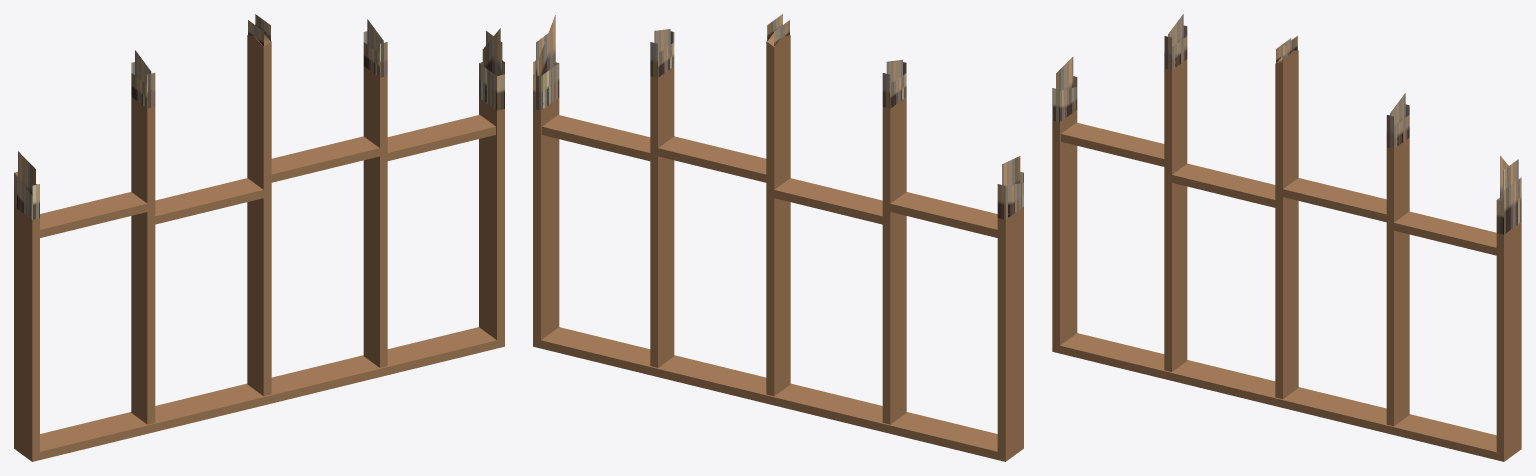
The model's file is DBK_WoodFrame_Tile_B.fbx.
The picture shows the model from 3 angles, left to right: view 1: azimuth 30°, elevation 25°; view 2: azimuth 150°, elevation 25°; view 3: azimuth 330°, elevation 25°; orthographic projection. The views are drawn at different scales.
Visible parts, largest first — view 1: DBK_WoodFrame_Tile_B; view 2: DBK_WoodFrame_Tile_B; view 3: DBK_WoodFrame_Tile_B.
Part boxes in pixels (bbox=[...]): DBK_WoodFrame_Tile_B: bbox=[14, 14, 504, 461]; DBK_WoodFrame_Tile_B: bbox=[533, 14, 1023, 461]; DBK_WoodFrame_Tile_B: bbox=[1052, 14, 1521, 461].
Bounding box in the file's own units: 300 × 229 × 20.
